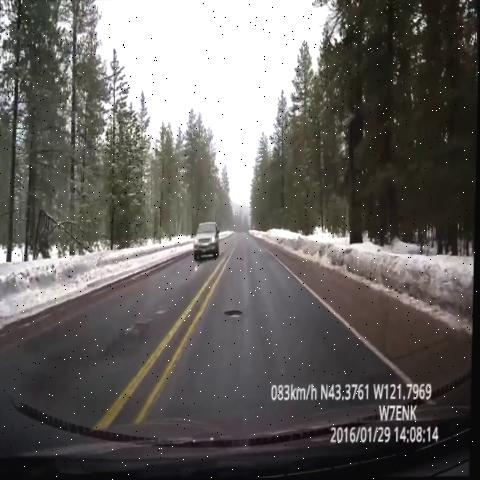pothole: (112, 295, 171, 366), (218, 305, 249, 333), (231, 251, 248, 268)
